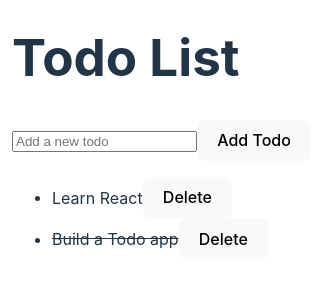
it: TodoList › adds a new todo
Type "New Todo" into the field with placeholder "Add a new todo" at x=104, y=142, box [12, 131, 197, 152]
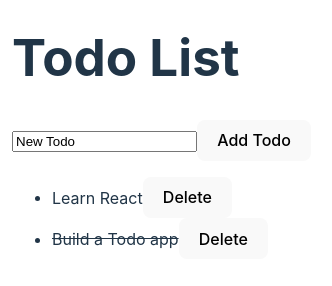
Click the button "Add Todo" at x=254, y=140, box [197, 120, 311, 161]
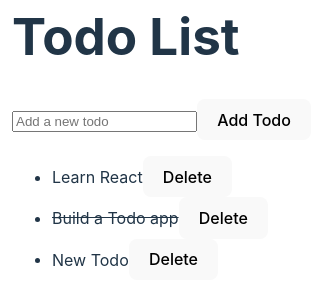
Result: the text "New Todo" is shown at [52, 249, 129, 269]
